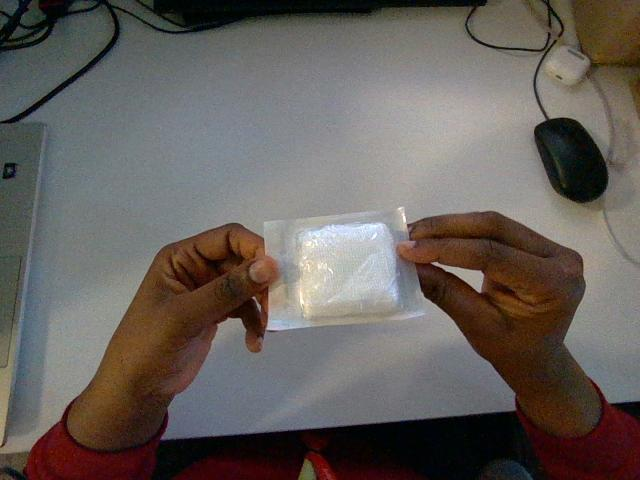gauze: (264, 208, 424, 330)
